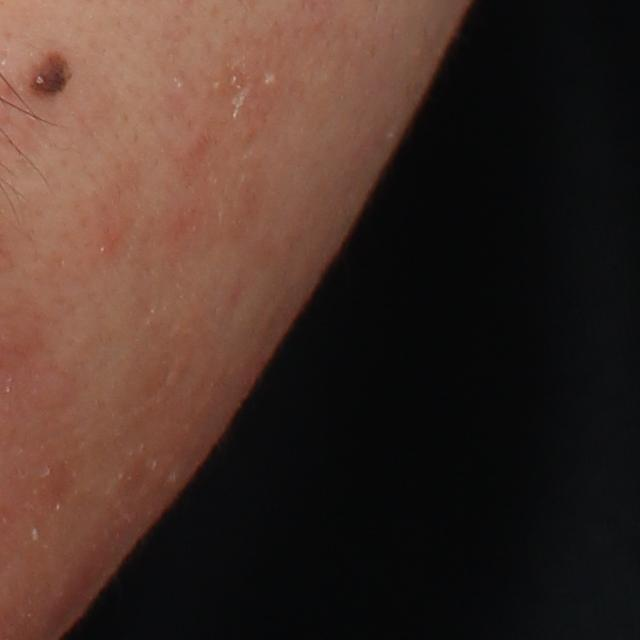nevus: (22, 47, 83, 103)
